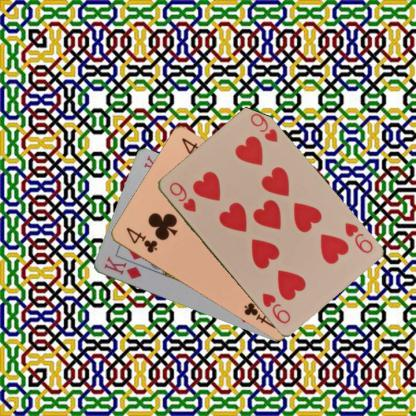4c: (123, 224, 159, 254)
9h: (341, 219, 374, 254), (166, 179, 197, 214)
Kd: (101, 254, 143, 281)
